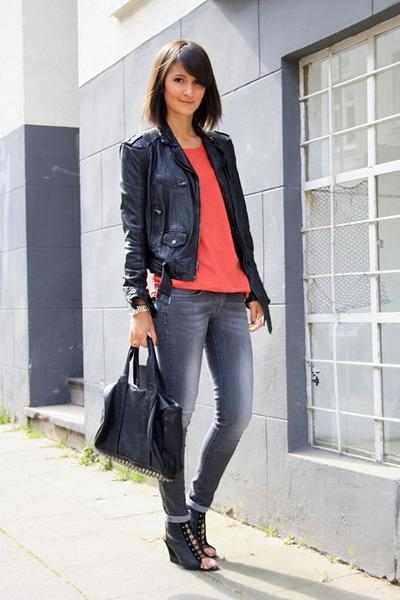jacket: (118, 132, 268, 307)
short sleeve shirt: (148, 143, 254, 295)
trousers: (150, 290, 254, 524)
